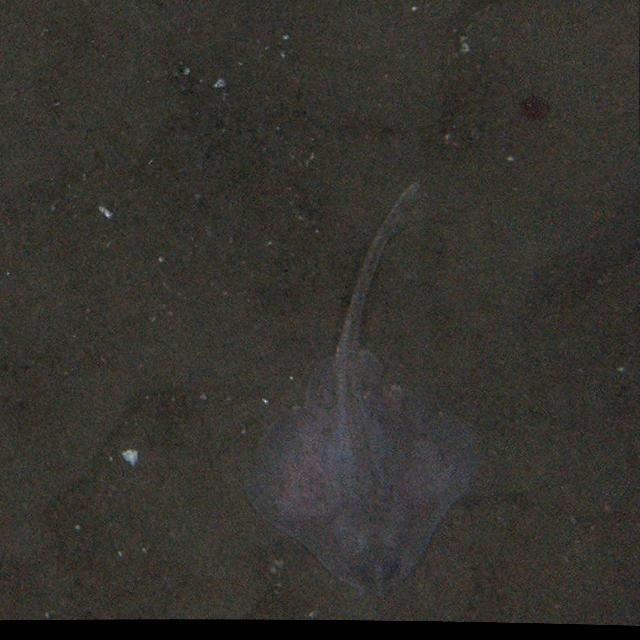skate: (246, 178, 476, 595)
